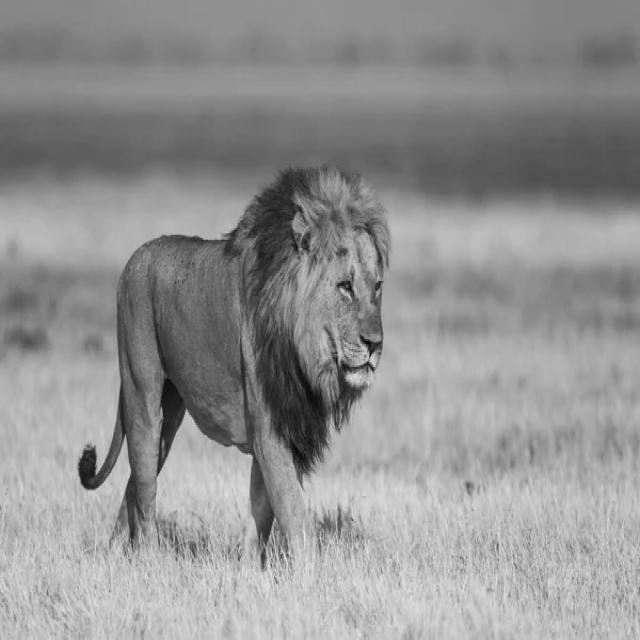Animal: (78, 167, 390, 557)
